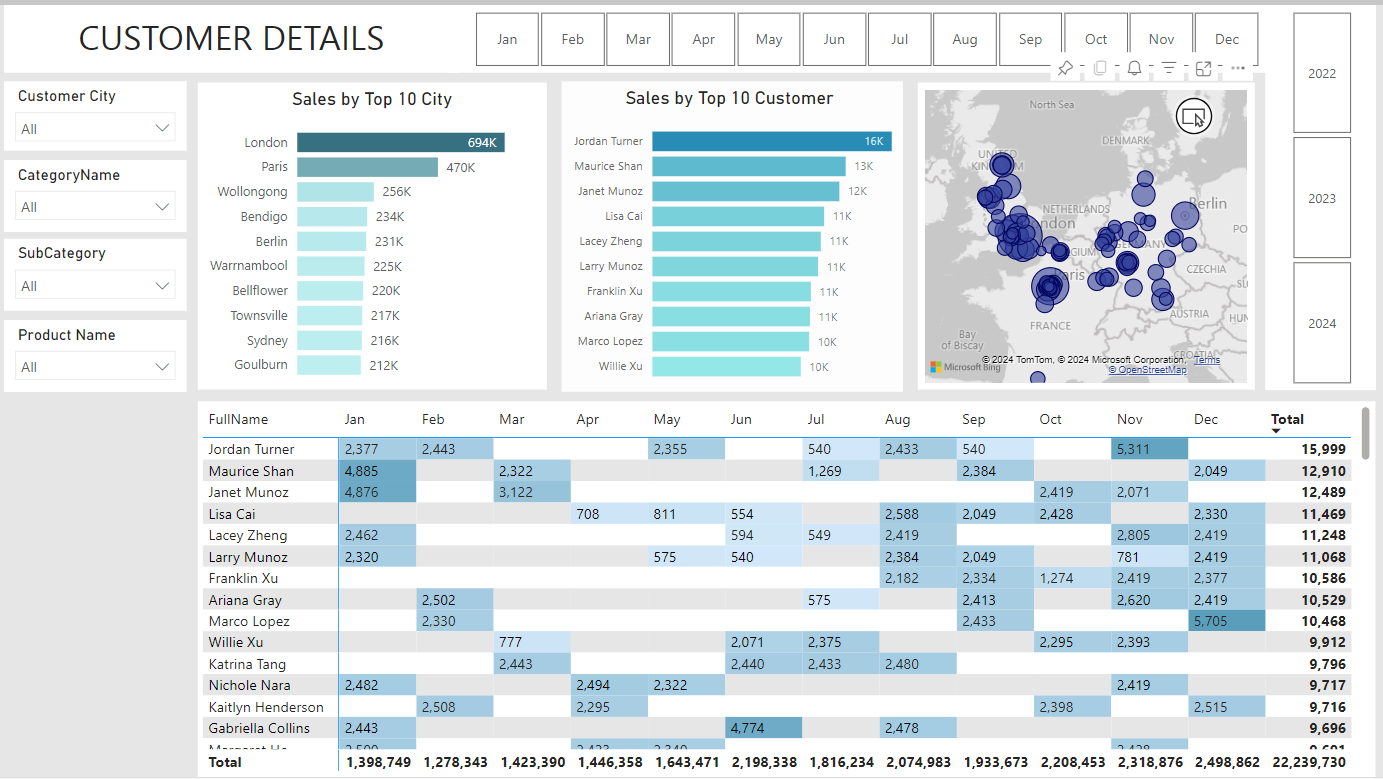

Layout of this report page (visuals, bound fields, positions):
{"tool":"powerbi","page":{"name":"CUSTOMER DETAILS","canvas":[1280,720],"ordinal":1},"visuals":[{"type":"textbox","box":[0,0,424.3,63.6],"z":0},{"type":"slicer","fields":{"Values":["Dim_Customer.CustomerCity"]},"box":[0,71.4,170.2,64.5],"z":1000},{"type":"slicer","fields":{"Values":["Dim_Product.CategoryName"]},"box":[0,144.1,170.2,67.2],"z":2000},{"type":"slicer","fields":{"Values":["Dim_Product.SubCategory"]},"box":[0,218.2,170.2,67.2],"z":3000},{"type":"slicer","fields":{"Values":["Dim_Product.Name"]},"box":[0,293.7,170.2,67.2],"z":4000},{"type":"slicer","fields":{"Values":["Dim_Date.Year"]},"box":[1176,0,104.3,359.5],"z":5000},{"type":"slicer","fields":{"Values":["Dim_Date.MonthShort"]},"box":[413.3,0,780.2,63.6],"z":6000},{"type":"clusteredBarChart","title":"Sales by Top 10 City","fields":{"Category":["Dim_Customer.CustomerCity"],"Y":["Fact_InternetSale.Sale"]},"box":[181.1,72.7,325.2,286.8],"z":7000},{"type":"clusteredBarChart","title":"Sales by Top 10 Customer","fields":{"Y":["Fact_InternetSale.Sale"],"Category":["Dim_Customer.FullName"]},"box":[520.1,71.4,318.4,289.5],"z":8000},{"type":"map","fields":{"Category":["Dim_Customer.CustomerCity"],"Size":["Fact_InternetSale.Sale"]},"box":[852.1,72.7,314.2,286.8],"z":9000},{"type":"pivotTable","fields":{"Columns":["Dim_Date.MonthShort"],"Rows":["Dim_Customer.FullName"],"Values":["Fact_InternetSale.Sale"]},"box":[181.2,370,1098.8,350],"z":10000}]}

Visuals, with their boxes in screenshot pixels (x1, y1, x2, y2), scaled from the page's 1280x720 canvas onto the 1383x779 screenshot:
textbox: box=[0, 0, 458, 69]
slicer - Dim_Customer.CustomerCity: box=[0, 77, 184, 147]
slicer - Dim_Product.CategoryName: box=[0, 156, 184, 229]
slicer - Dim_Product.SubCategory: box=[0, 236, 184, 309]
slicer - Dim_Product.Name: box=[0, 318, 184, 390]
slicer - Dim_Date.Year: box=[1271, 0, 1382, 389]
slicer - Dim_Date.MonthShort: box=[447, 0, 1290, 69]
"Sales by Top 10 City" clusteredBarChart: box=[196, 79, 547, 389]
"Sales by Top 10 Customer" clusteredBarChart: box=[562, 77, 906, 390]
map - Dim_Customer.CustomerCity x Fact_InternetSale.Sale: box=[921, 79, 1260, 389]
pivotTable - Dim_Date.MonthShort x Dim_Customer.FullName: box=[196, 400, 1382, 778]
